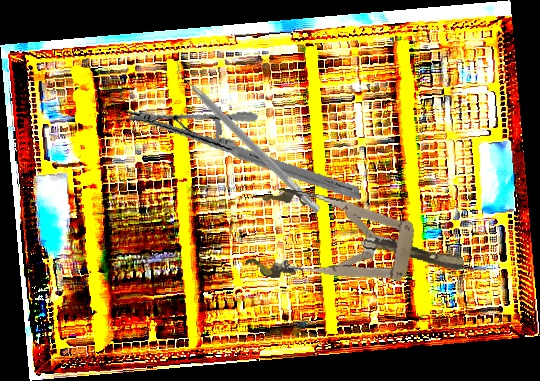Needle Holder: (127, 71, 361, 237)
Spatula Surgical: (167, 59, 328, 214)
Speculum: (243, 184, 472, 310)
